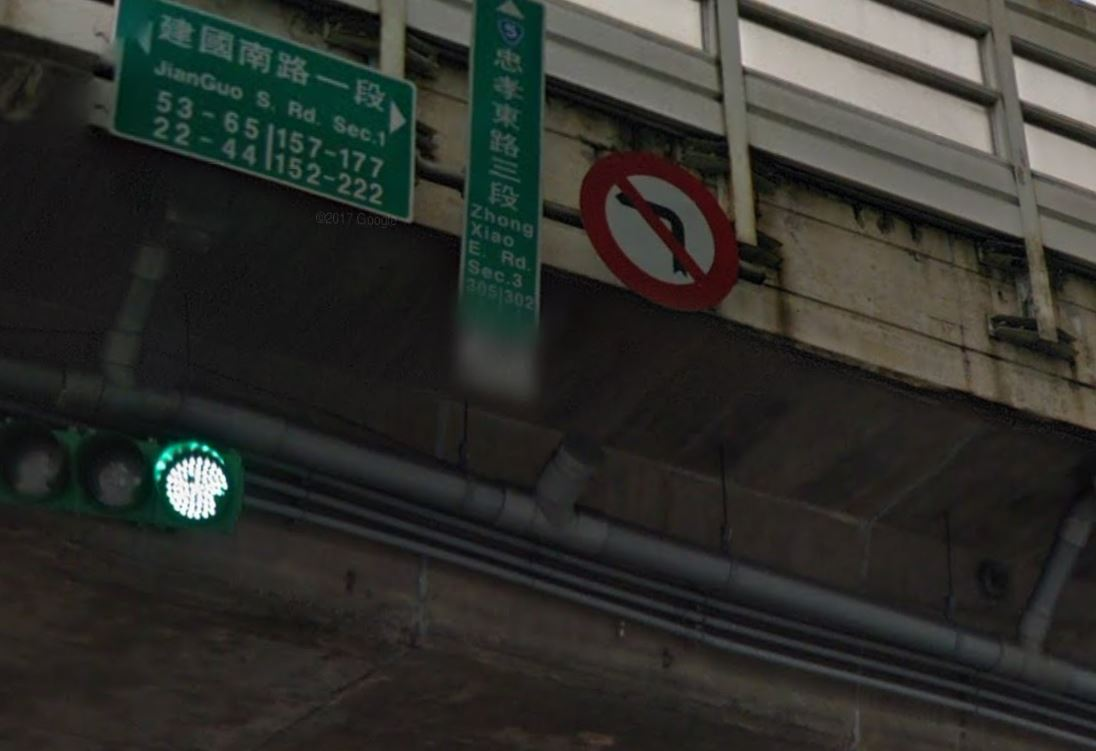No_left_turn: (579, 151, 739, 312)
Traffic_light_green: (2, 414, 247, 535)
